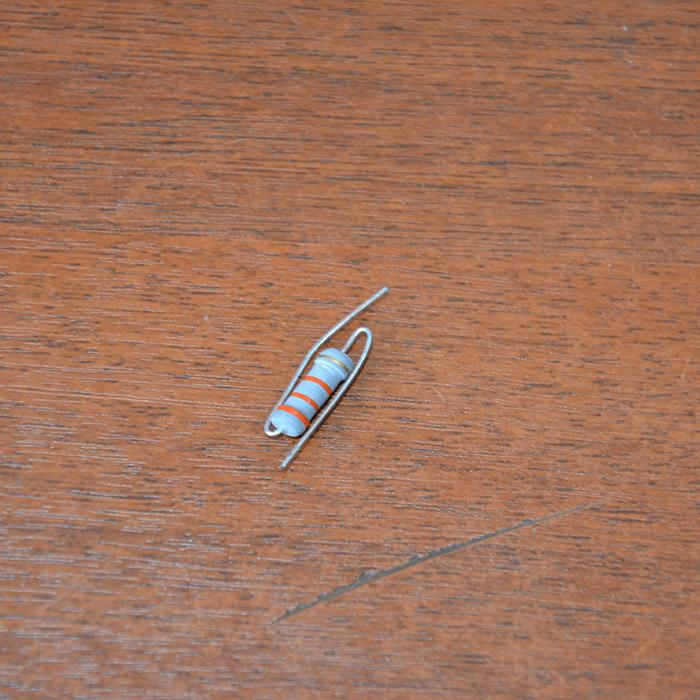resistor: (267, 346, 354, 438)
